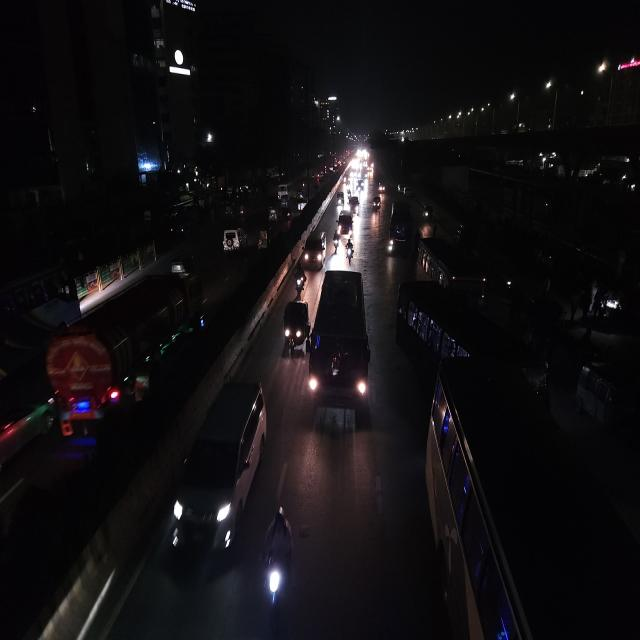bus: (427, 360, 635, 639), (45, 275, 189, 450), (394, 281, 504, 386), (310, 267, 372, 423), (415, 234, 491, 304), (386, 198, 413, 258)
car: (170, 376, 270, 569), (0, 344, 57, 479), (302, 227, 328, 270), (220, 224, 244, 257), (169, 251, 197, 277), (335, 210, 355, 238), (347, 193, 361, 217)
cng: (282, 297, 310, 358), (133, 351, 160, 411), (257, 221, 273, 256), (267, 204, 279, 224), (372, 194, 382, 214), (335, 191, 346, 205), (378, 177, 386, 194)
motorcycle: (260, 500, 294, 638), (294, 270, 306, 300), (345, 236, 355, 264), (421, 203, 433, 223), (333, 233, 341, 256)
